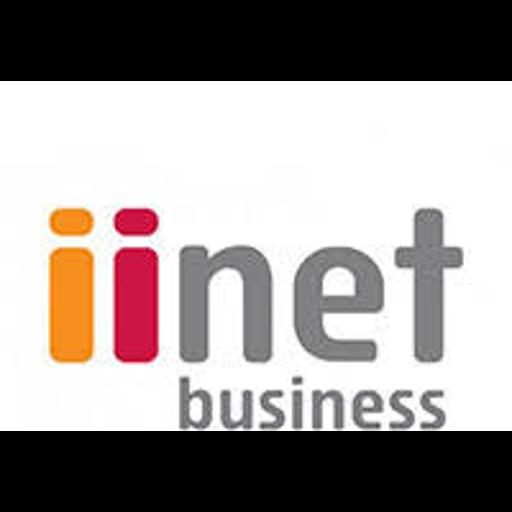iiNet Limited: (0, 81, 512, 431)
